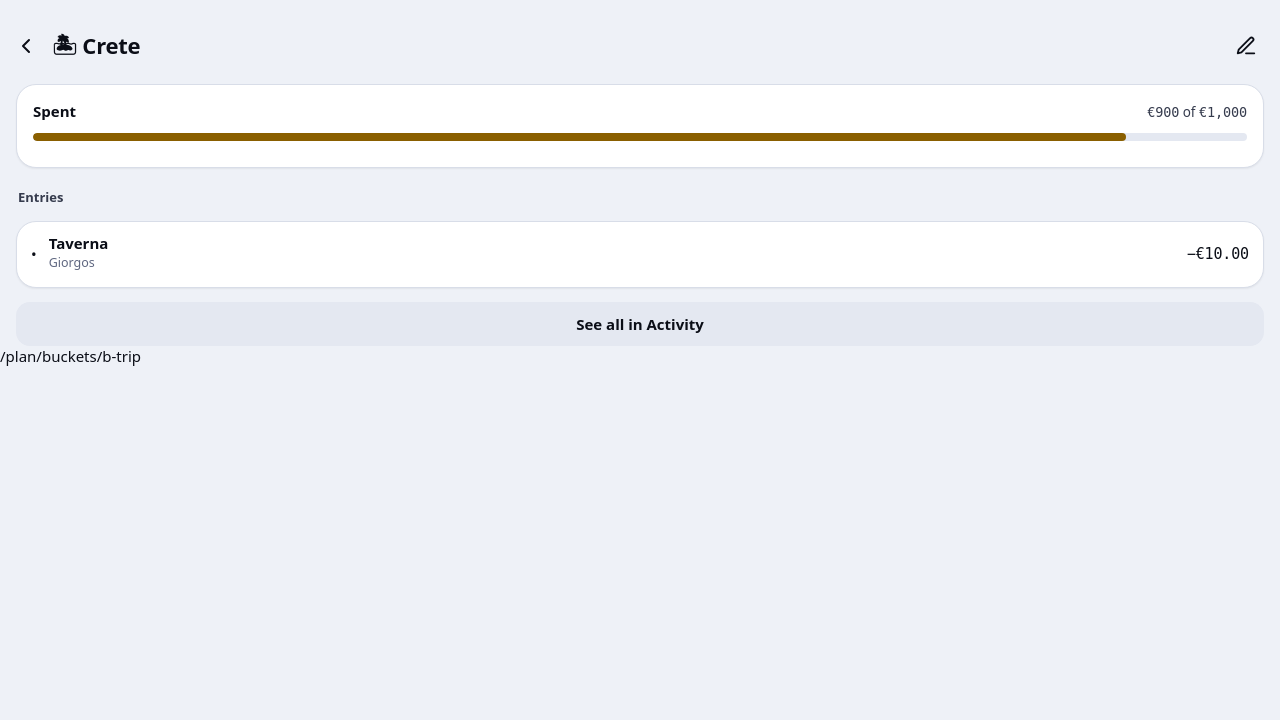
Scenario: ends with a link to Activity filtered to this bucket, and Edit is an icon in the header
Click the button named "Edit bucket": point(1246, 46) [1224,24,1268,68]
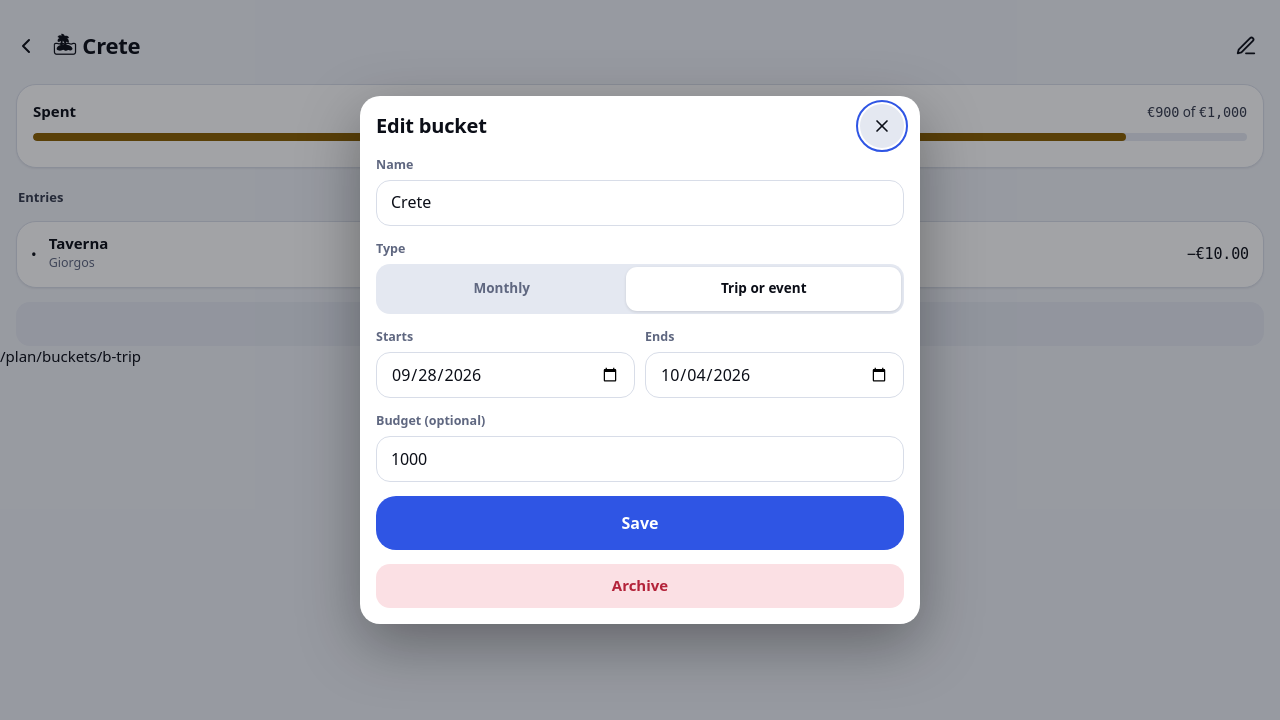
Expected: the dialog is shown, [360,96,920,624]
